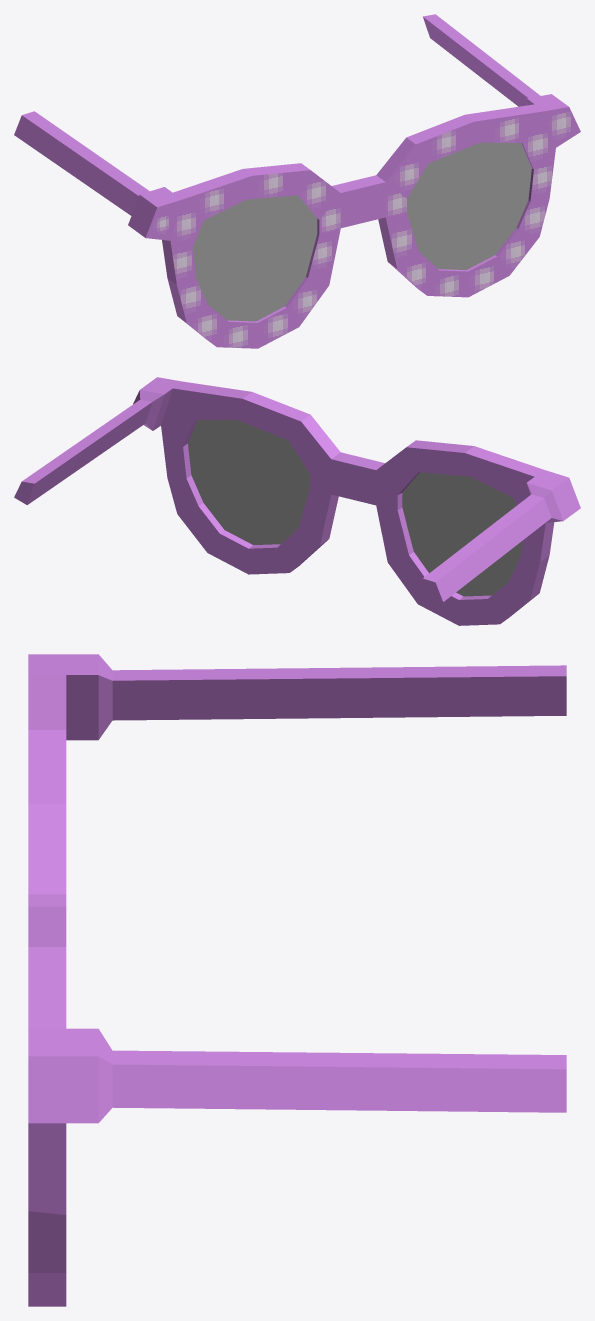
The model's file is Glasses.fbx.
The picture shows the model from 3 angles, top to bottom: view 1: azimuth 30°, elevation 25°; view 2: azimuth 150°, elevation 25°; view 3: azimuth 270°, elevation 25°; orthographic projection. The views are drawn at different scales.
Parts seen in each view (by area): view 1: Glasses, Glass; view 2: Glasses, Glass; view 3: Glasses.
Part boxes in pixels (x1,y1,x2,y2): Glasses: [14, 14, 580, 348]; Glass: [192, 142, 531, 321]; Glasses: [14, 377, 580, 625]; Glass: [188, 420, 522, 596]; Glasses: [28, 654, 566, 1306].
Bounding box in the file's own units: 37.11 × 14.19 × 19.87.
